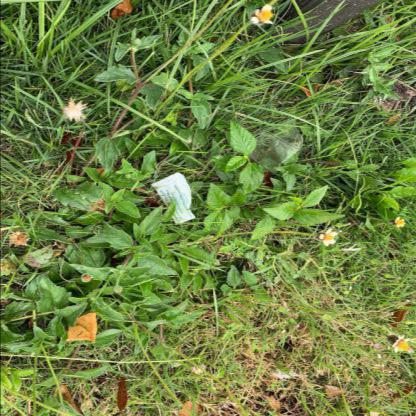Plastic bag - wrapper: (248, 118, 302, 174), (152, 173, 194, 225)
